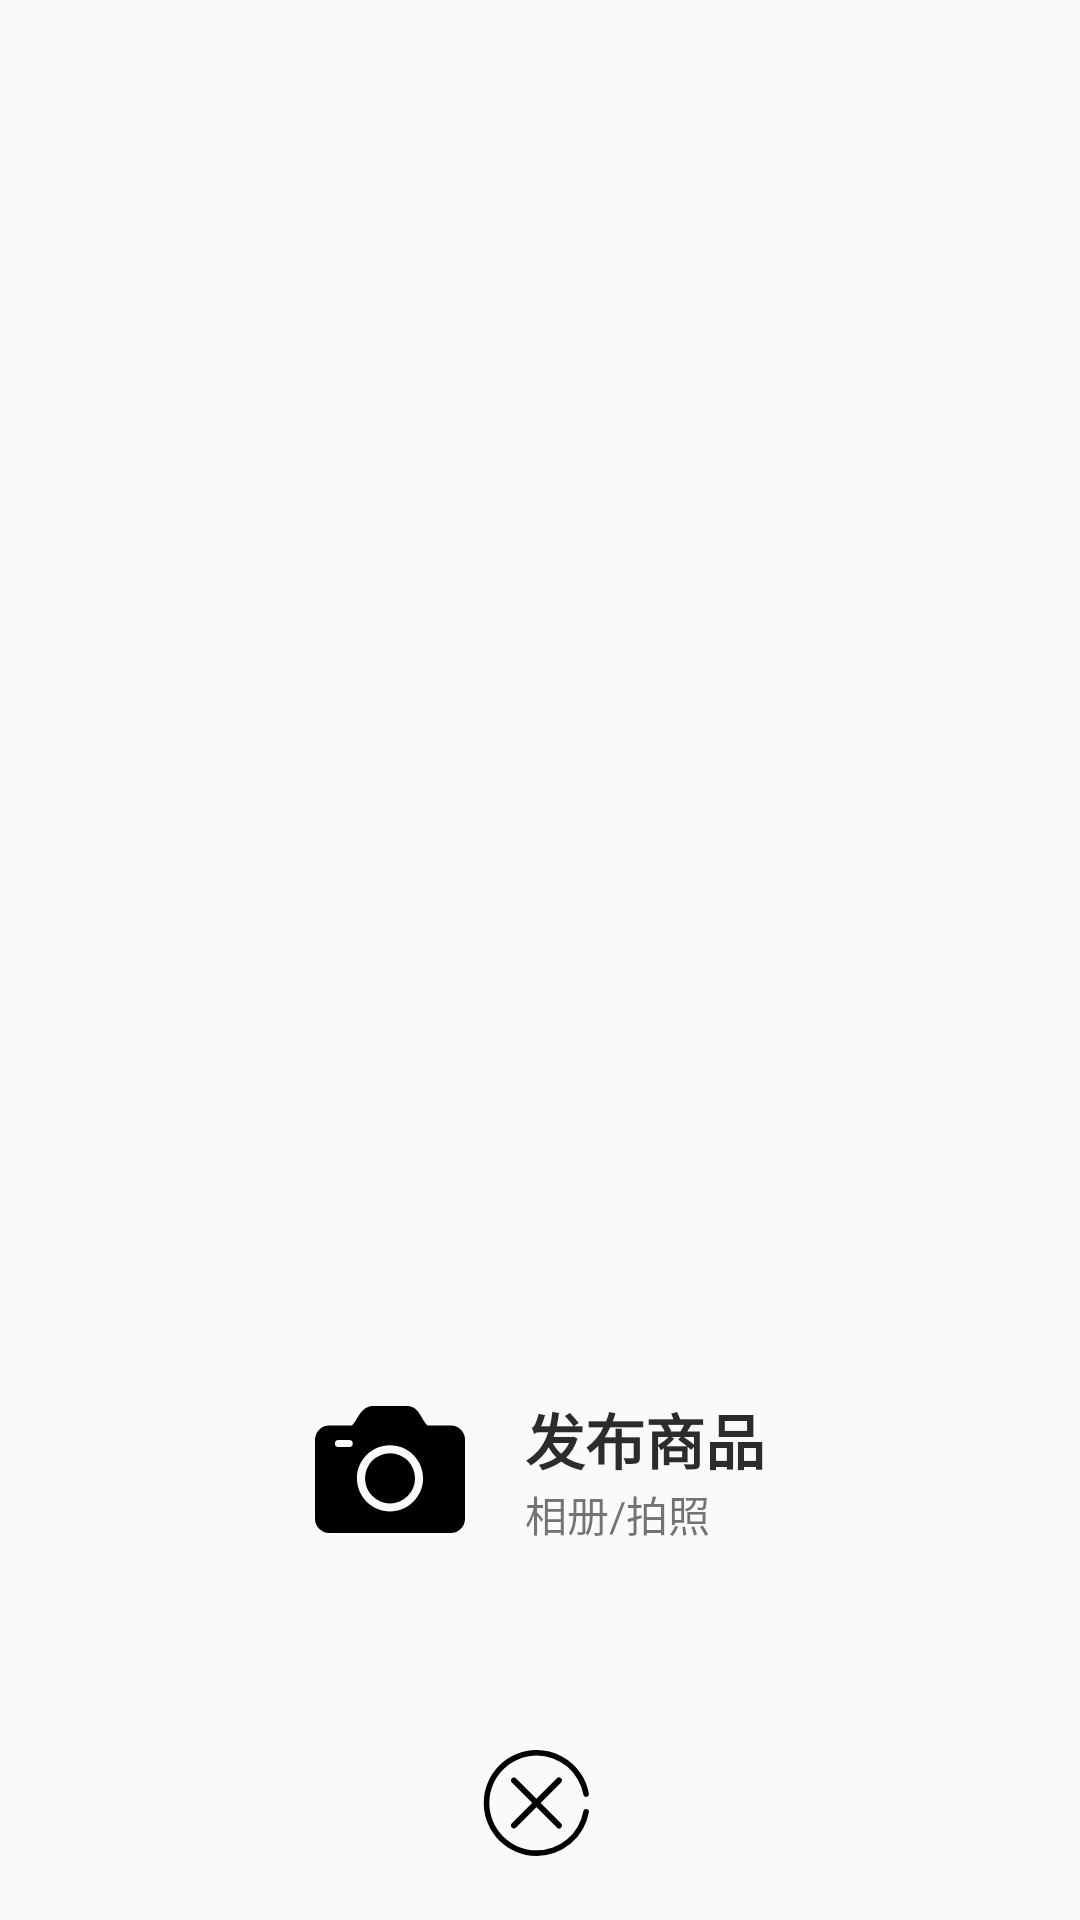

Icon click points for this 1080×1920 phone screenshot, format (x,y):
camera: (390,1469)
close: (536,1803)
